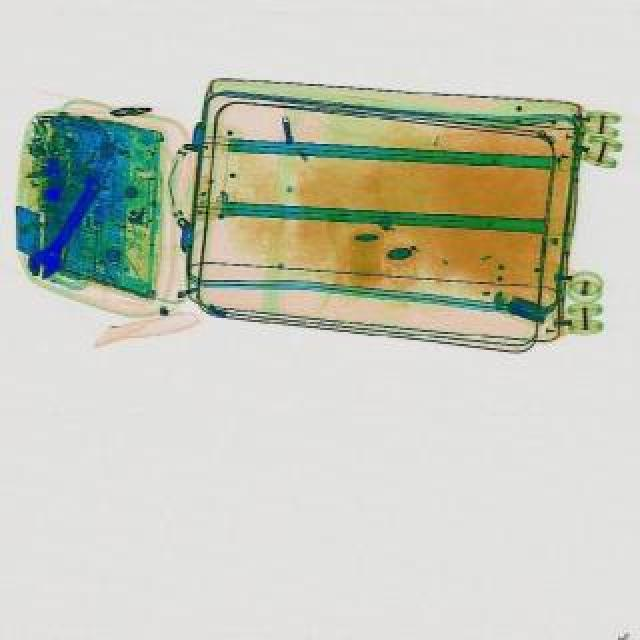scissors: (20, 174, 114, 288)
